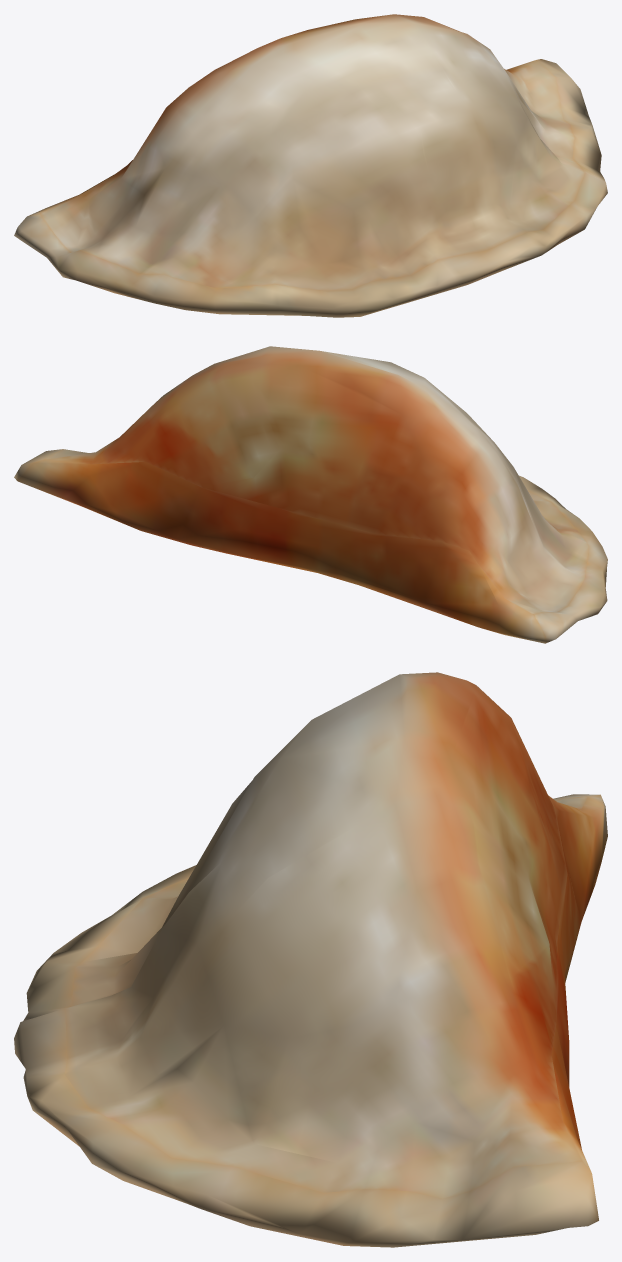
The model's file is FriedDumpling.obj.
3 views of the same model, one above another, from view 1: azimuth 30°, elevation 25°; view 2: azimuth 150°, elevation 25°; view 3: azimuth 270°, elevation 25° (orthographic). The views are drawn at different scales.
Visible parts, largest first — view 1: d(Clone)_Quality_9; view 2: d(Clone)_Quality_9; view 3: d(Clone)_Quality_9.
Boxes of the visible parts, bbox=[...] form: d(Clone)_Quality_9: bbox=[14, 14, 607, 317]; d(Clone)_Quality_9: bbox=[14, 346, 607, 643]; d(Clone)_Quality_9: bbox=[14, 672, 607, 1247].
Bounding box in the file's own units: 1.23 × 0.4382 × 0.6554.
